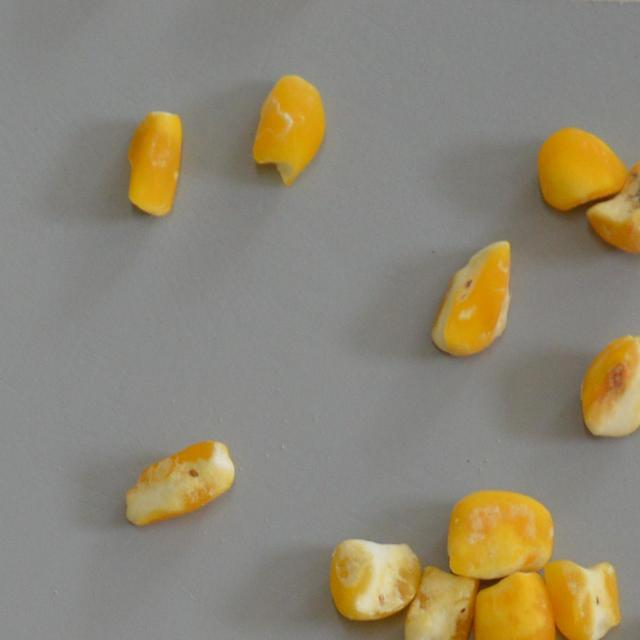dañado: (120, 438, 236, 531), (428, 238, 514, 361), (444, 487, 556, 580), (248, 66, 329, 192), (327, 535, 424, 624), (534, 124, 628, 212), (122, 103, 185, 222), (576, 330, 640, 442), (472, 568, 556, 640), (586, 149, 640, 256)
punto_negro: (540, 556, 626, 640), (399, 562, 480, 640)
